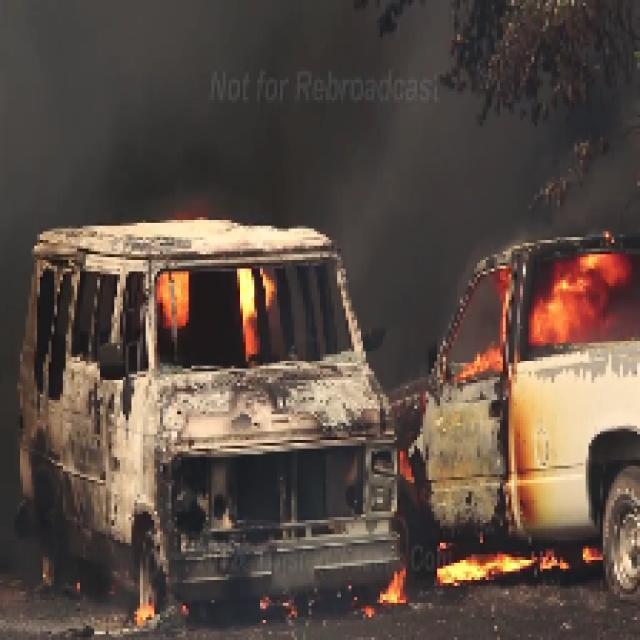Fire: (128, 243, 328, 383), (457, 257, 640, 372)
Smoke: (3, 6, 640, 238)
